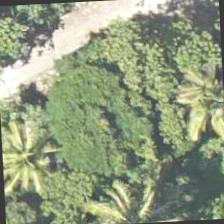Kelapa_Sawit: (0, 110, 62, 204), (78, 172, 172, 223)
